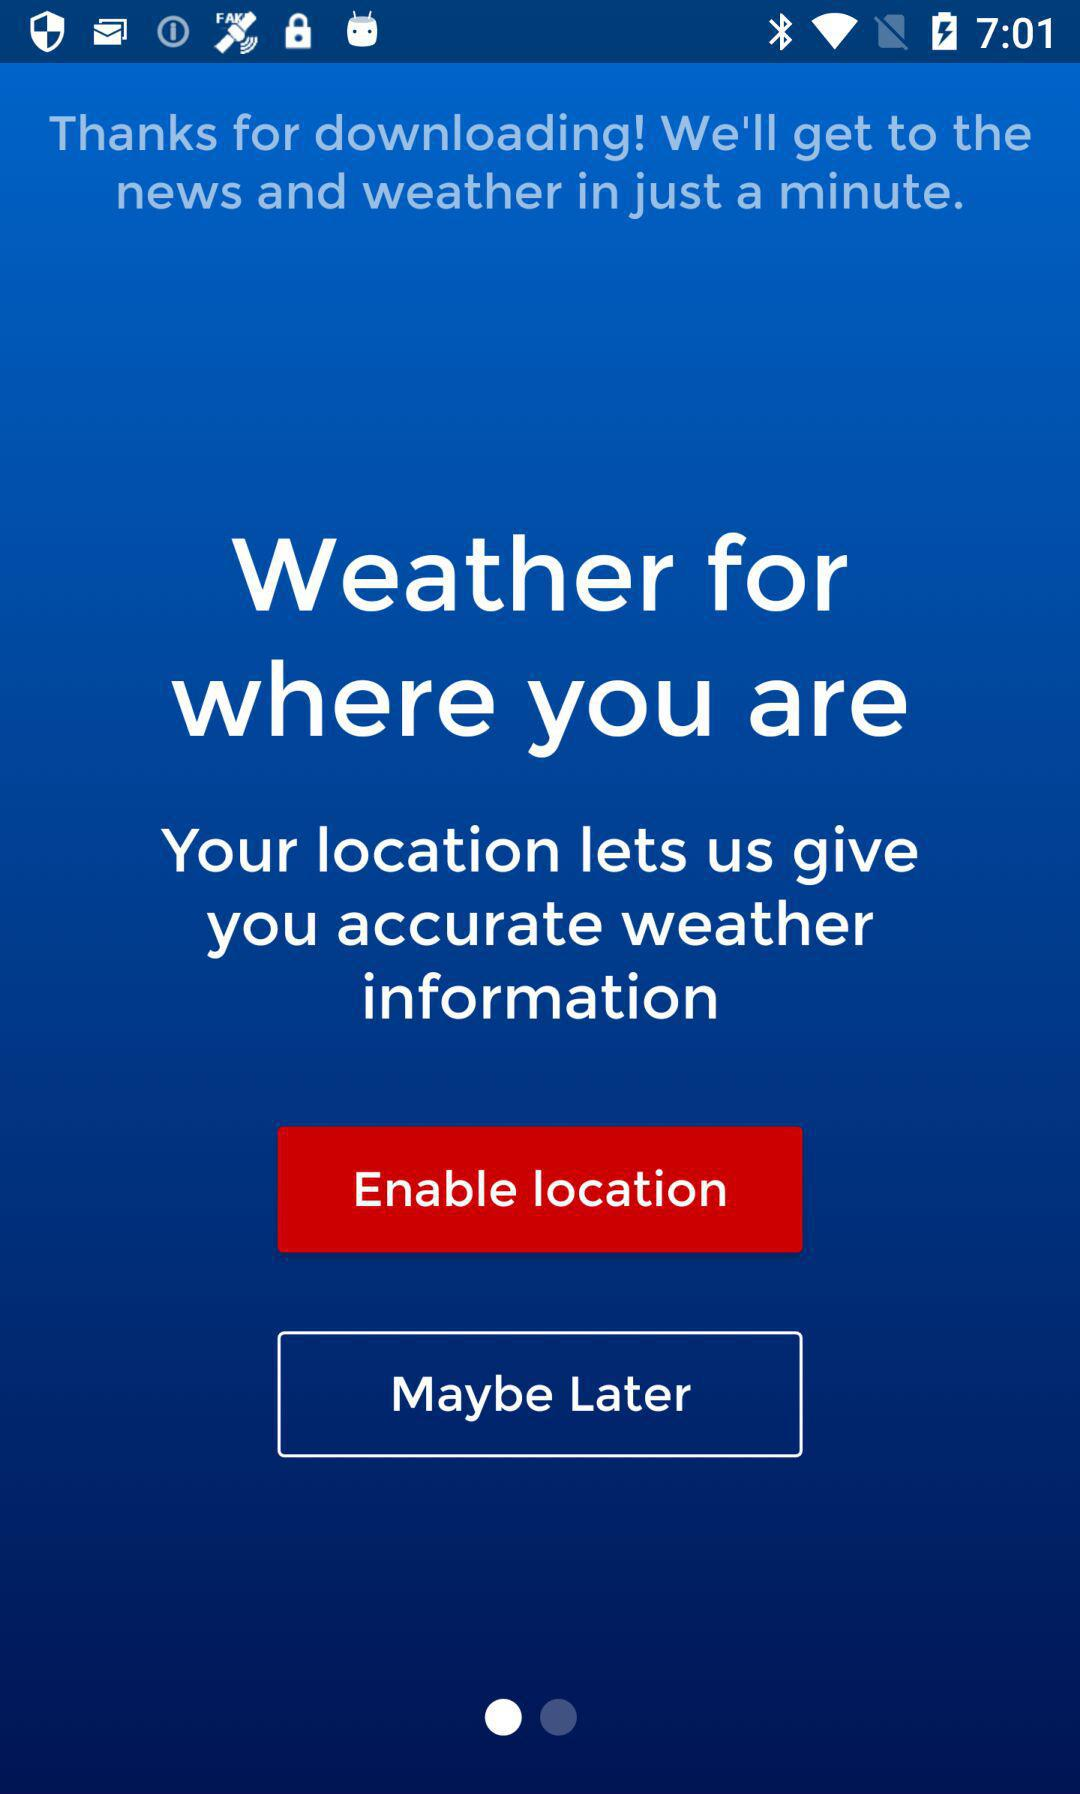PageIndicator: (484, 1697, 579, 1738)
Text: (160, 825, 919, 1023), (49, 113, 1033, 222), (170, 657, 908, 760), (231, 531, 849, 614)
TextButton: (277, 1331, 805, 1460), (277, 1126, 803, 1255)
UpperTaskBar: (1, 1, 1080, 64)
